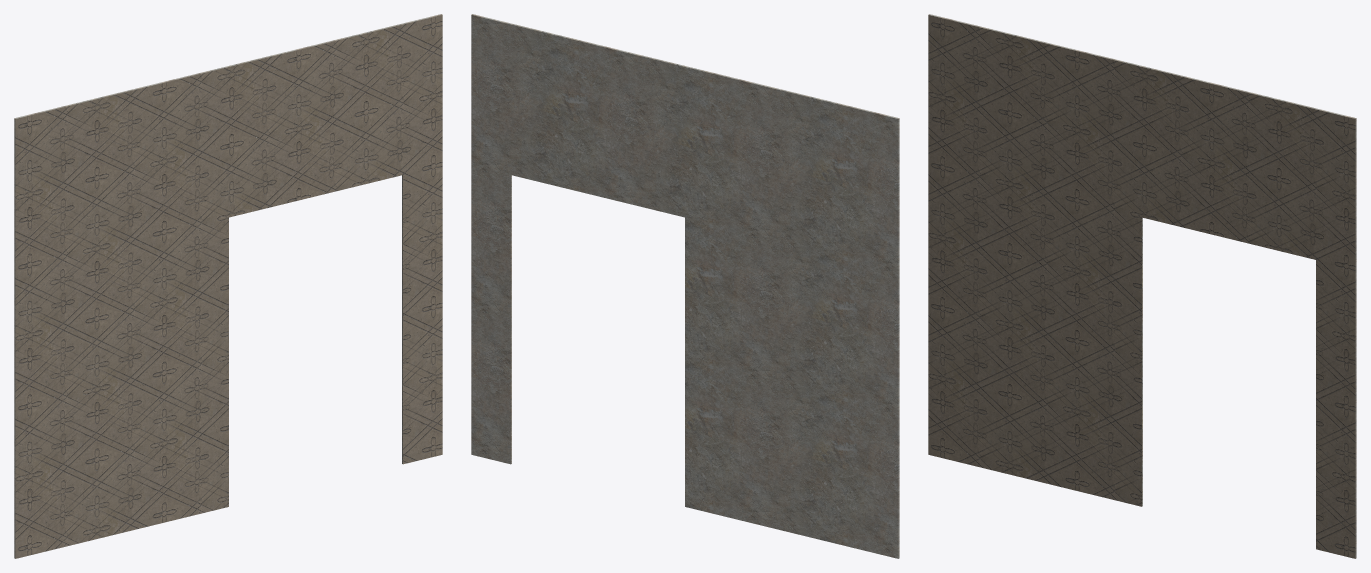
The model's file is WallpapperD.fbx.
3 renders of one model, left to right at view 1: azimuth 30°, elevation 25°; view 2: azimuth 150°, elevation 25°; view 3: azimuth 330°, elevation 25°, orthographic.
Visible parts, largest first — view 1: WallpapperD; view 2: WallpapperD; view 3: WallpapperD.
Boxes of the visible parts, box(x1,y1,x2,y2) form: WallpapperD: box(14, 14, 442, 558); WallpapperD: box(471, 14, 899, 558); WallpapperD: box(928, 14, 1356, 558).
Bounding box in the file's own units: 374 × 368 × 1.68.
